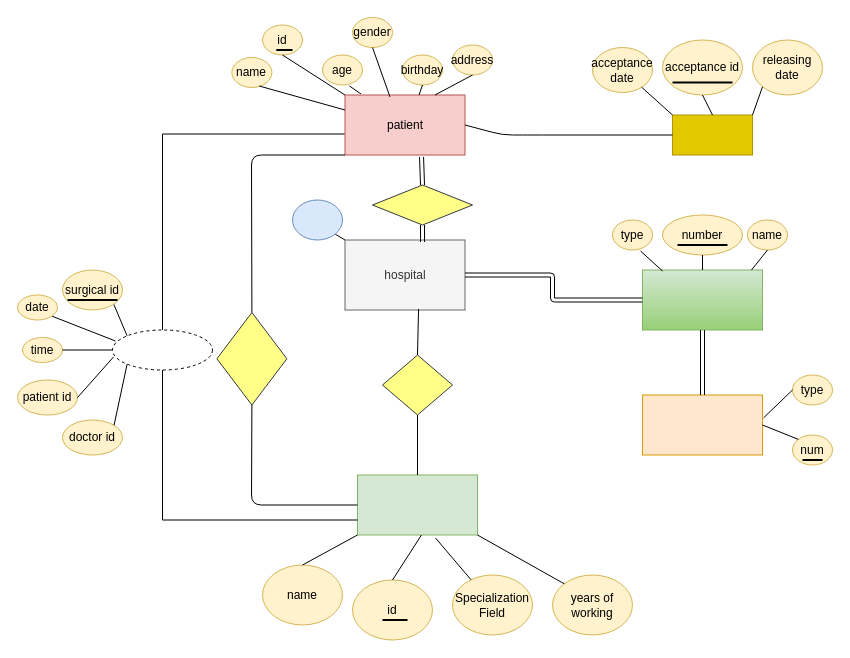
Some shapes in this 850 by 658 pixel diagram are drawn without their labels. Here are the shapes that lost their labels. From the top down, the centre of each, then its label:
At point 712,134: "history".
At point 317,219: "patient info".
At point 422,204: "Hospitalization".
At point 702,299: "department".
At point 162,349: "Surgical form".
At point 251,358: "Treatment".
At point 417,384: "Recruitment".
At point 702,424: "bed".
At point 417,504: "doctor".
